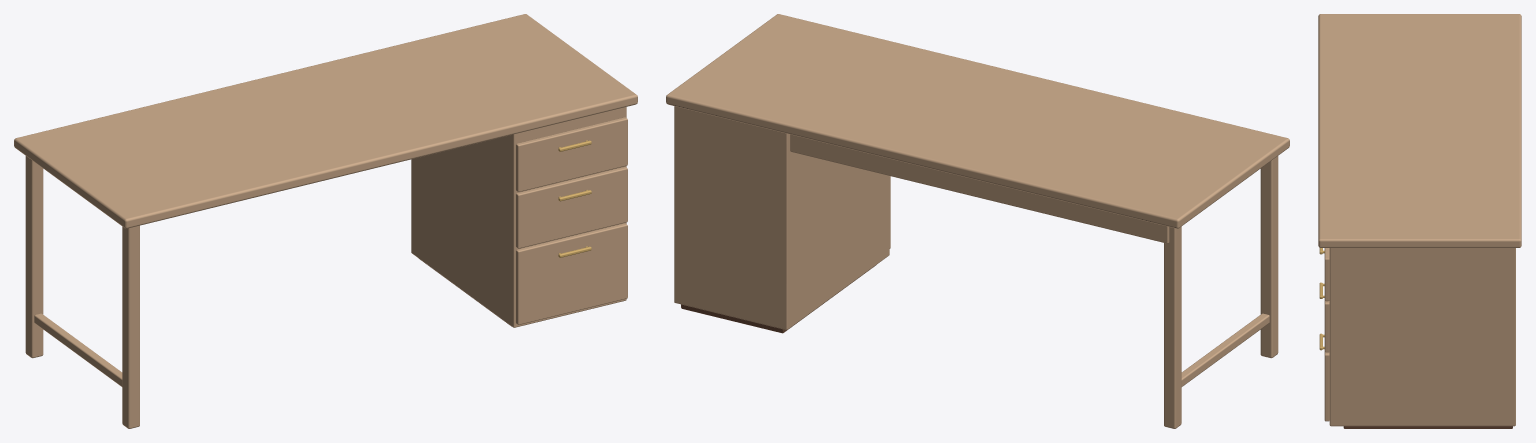
Rendered from writing_desk.fbx.
The picture shows the model from 3 angles, left to right: view 1: azimuth 30°, elevation 25°; view 2: azimuth 150°, elevation 25°; view 3: azimuth 270°, elevation 25°; orthographic projection. The views are drawn at different scales.
Parts seen in each view (by area): view 1: writing_desk, Desk_Drawer0, Desk_Drawer1, Desk_Drawer2; view 2: writing_desk; view 3: writing_desk, Desk_Drawer0, Desk_Drawer1, Desk_Drawer2.
Boxes of the visible parts, x1=… form: writing_desk: x1=14, y1=14, x2=637, y2=428; Desk_Drawer0: x1=515, y1=223, x2=627, y2=324; Desk_Drawer1: x1=515, y1=167, x2=627, y2=248; Desk_Drawer2: x1=515, y1=117, x2=627, y2=191; writing_desk: x1=666, y1=14, x2=1289, y2=428; writing_desk: x1=1318, y1=14, x2=1521, y2=428; Desk_Drawer0: x1=1319, y1=333, x2=1329, y2=421; Desk_Drawer1: x1=1319, y1=282, x2=1329, y2=352; Desk_Drawer2: x1=1319, y1=248, x2=1329, y2=301.
Bounding box in the file's own units: 1.9 × 0.76 × 0.72.
